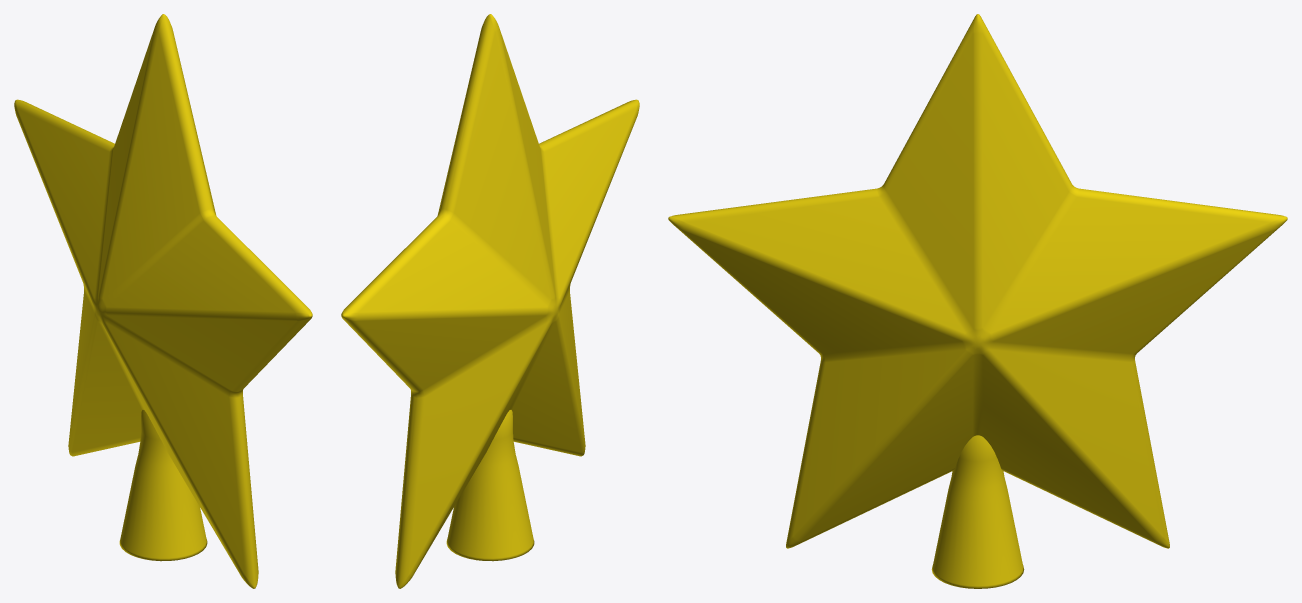
Rendered from top2.fbx.
3 views of the same model, side by side, from view 1: azimuth 30°, elevation 25°; view 2: azimuth 150°, elevation 25°; view 3: azimuth 270°, elevation 25° (orthographic). The views are drawn at different scales.
Parts seen in each view (by area): view 1: Star; view 2: Star; view 3: Star.
Boxes of the visible parts, box(x1,y1,x2,y2) form: Star: box(14, 14, 312, 588); Star: box(341, 14, 639, 588); Star: box(668, 14, 1287, 588).
Size of the model in its own units: 19.23 by 74.69 by 75.47.
